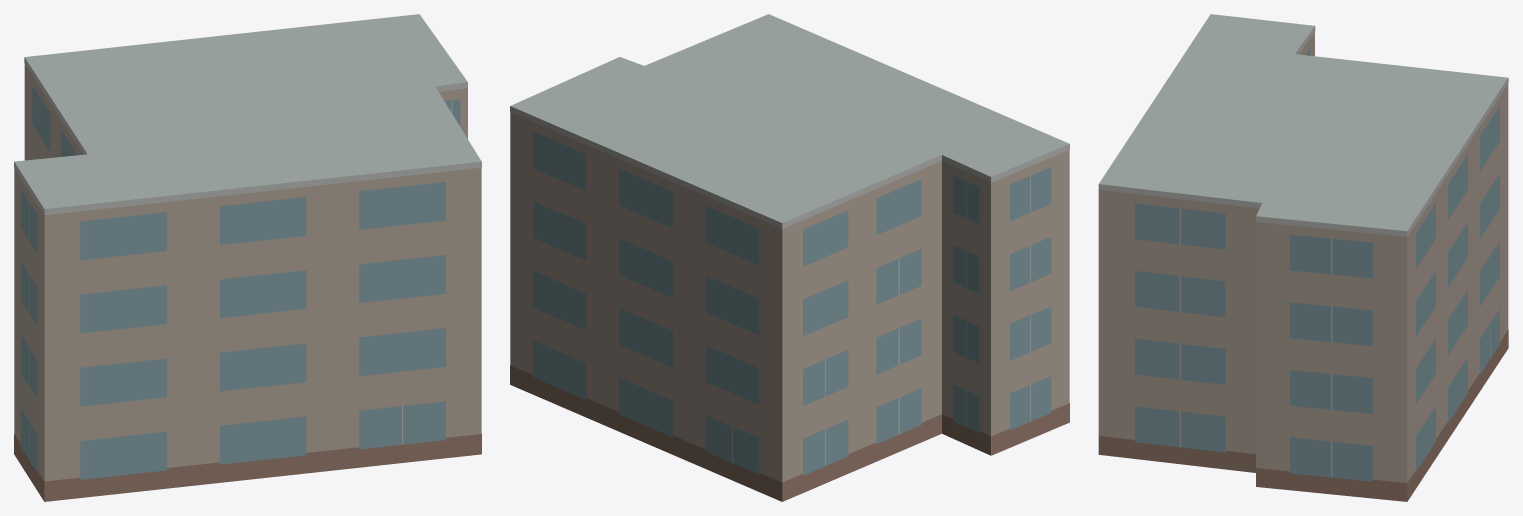
Rendered from survey-upis-32831196.glb.
3 views of the same model, side by side, from view 1: azimuth 30°, elevation 25°; view 2: azimuth 150°, elevation 25°; view 3: azimuth 270°, elevation 25° (orthographic). The views are drawn at different scales.
Visible parts, largest first — view 1: survey-upis-32831196.tmp; view 2: survey-upis-32831196.tmp; view 3: survey-upis-32831196.tmp.
Part boxes in pixels (x1,y1,x2,y2): survey-upis-32831196.tmp: (14, 14, 481, 501); survey-upis-32831196.tmp: (510, 14, 1069, 501); survey-upis-32831196.tmp: (1098, 14, 1508, 501).
Size of the model in its own units: 20.2 by 11.73 by 16.1.
